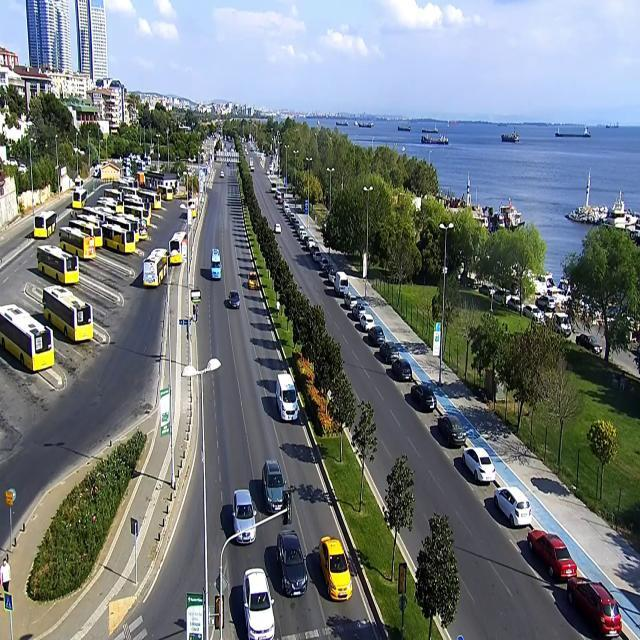bus: (0, 305, 55, 371), (42, 286, 94, 342), (142, 231, 188, 287), (38, 245, 79, 284), (59, 228, 96, 259), (101, 224, 136, 253), (144, 249, 168, 286), (34, 211, 58, 237), (71, 186, 88, 208), (76, 215, 104, 226)
car: (569, 578, 622, 637), (528, 530, 578, 579), (242, 569, 274, 639), (319, 536, 352, 601), (278, 531, 309, 596), (494, 486, 532, 526), (262, 460, 288, 513), (275, 374, 299, 421), (462, 449, 496, 482), (232, 489, 256, 532), (438, 415, 466, 446), (410, 384, 436, 411), (379, 341, 400, 364), (391, 359, 411, 381), (368, 326, 385, 346), (235, 528, 256, 544), (359, 312, 375, 332), (344, 291, 361, 309), (211, 249, 221, 279), (224, 291, 239, 309)
